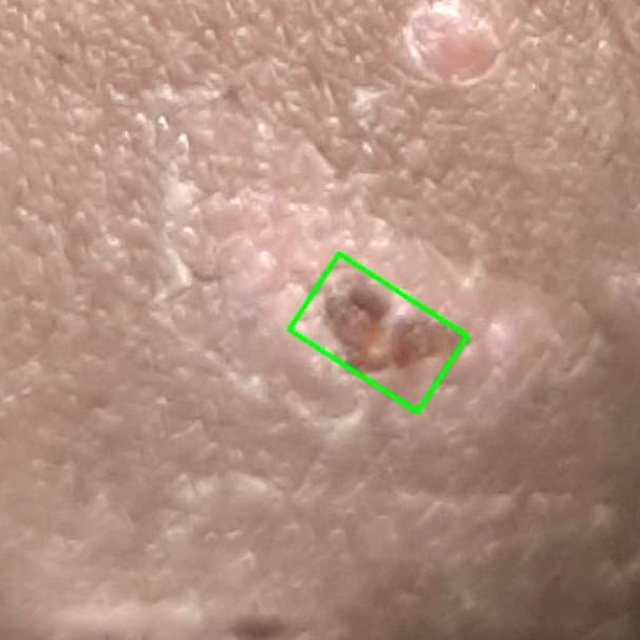Contact Dermatitis: (290, 254, 467, 412)
